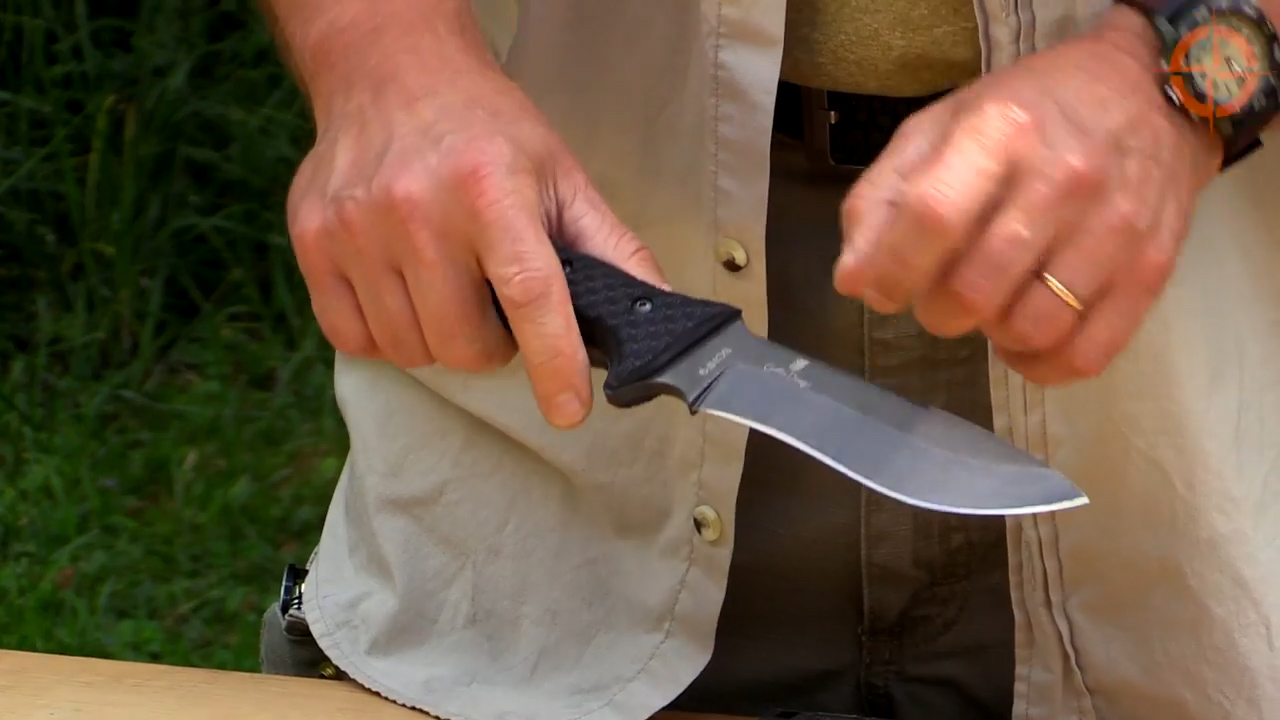knife: (277, 169, 1109, 531)
